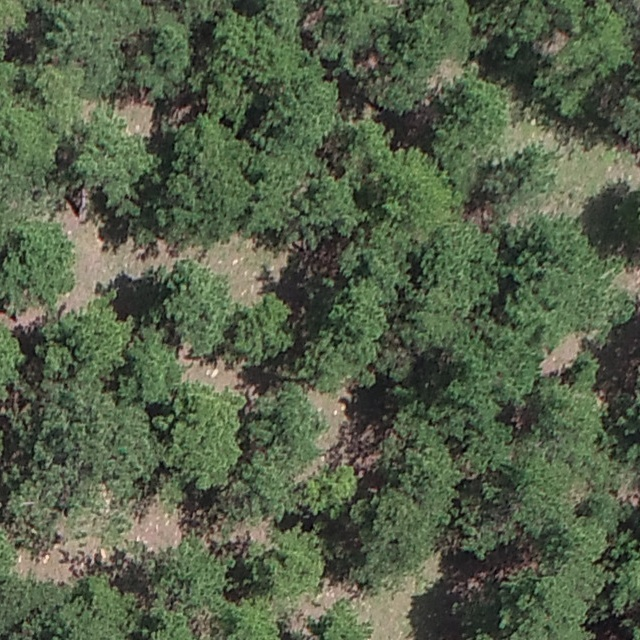unhealthy: (186, 606, 221, 638)
